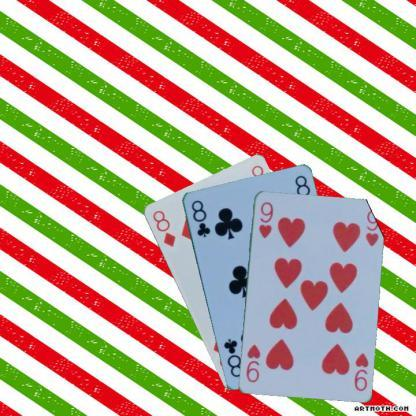8c: (188, 197, 212, 239)
8d: (150, 208, 176, 249)
9h: (352, 350, 370, 392), (256, 199, 274, 240)
